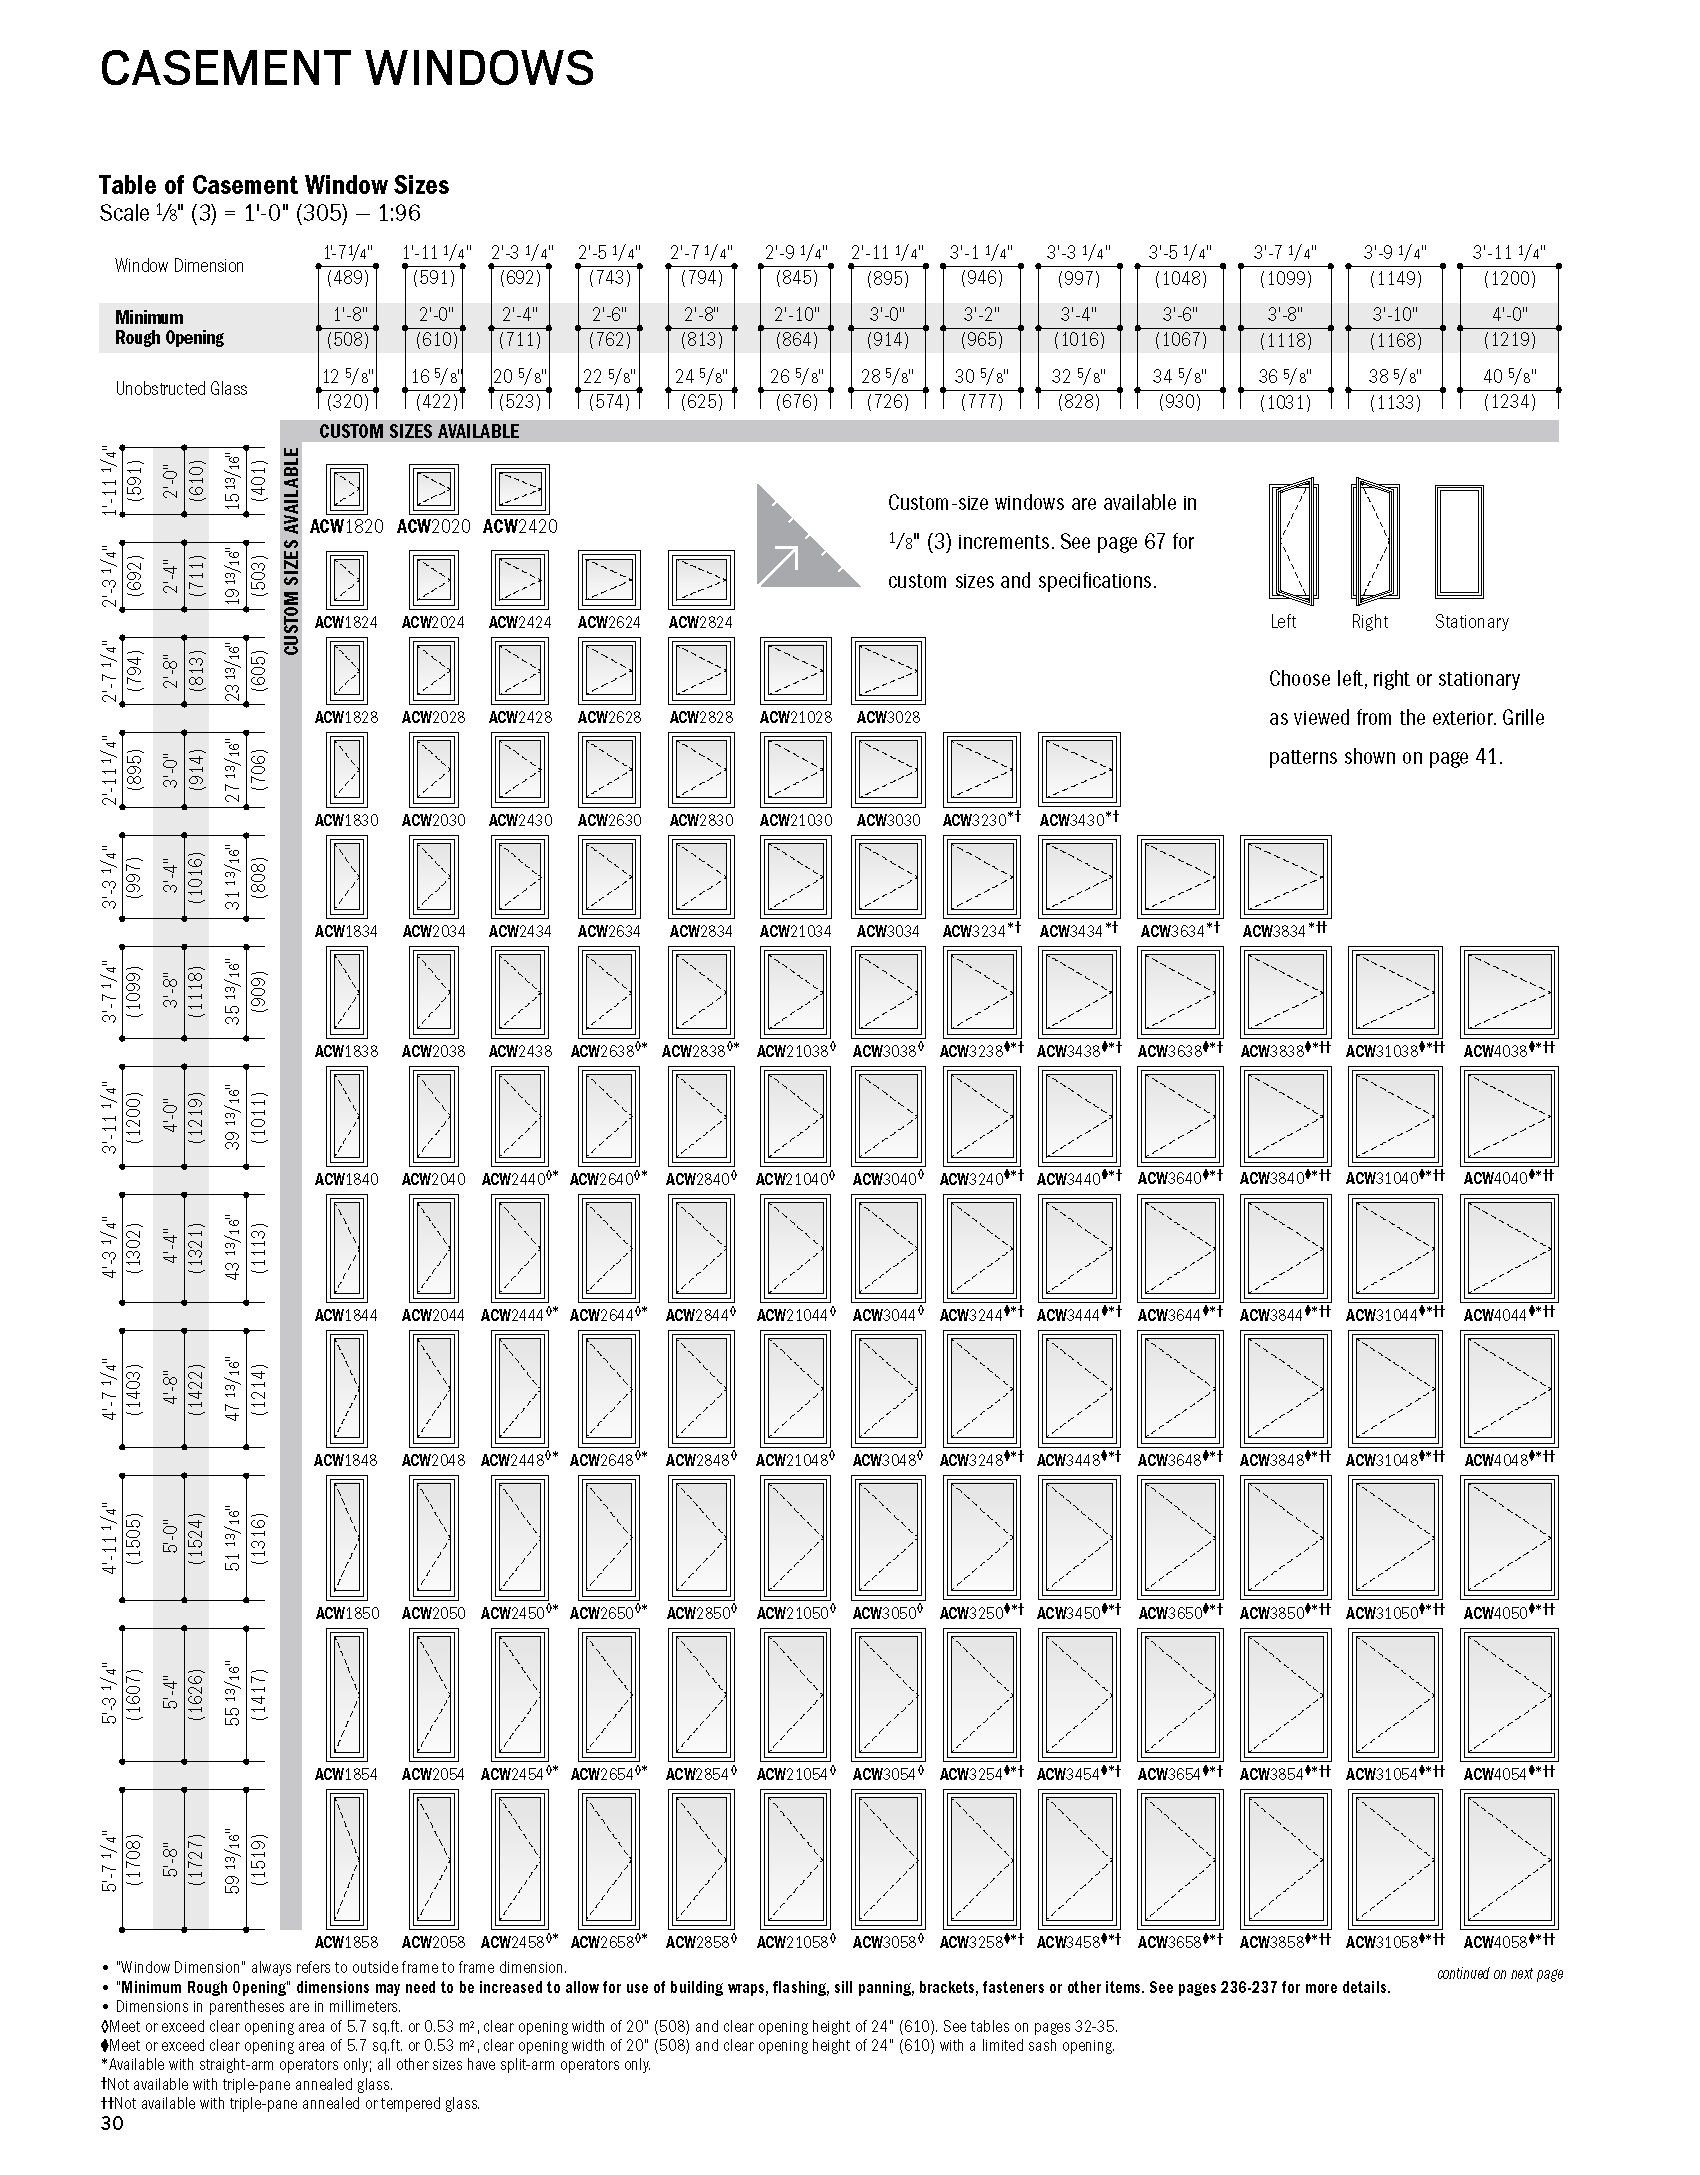tabledetected: (99, 235, 1569, 1958)
